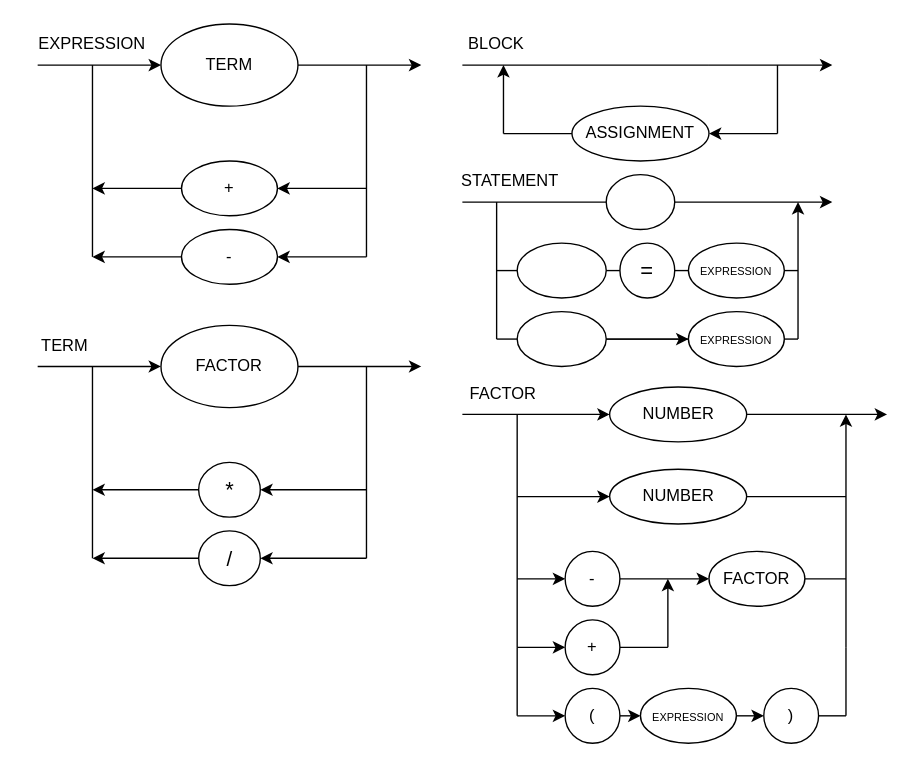
This 922x767 diagram has some shape labels left out. Each missing label, with the box of its shape:
\n: (605, 173, 675, 229)
IDENTIFIER: (516, 242, 606, 298)
PRINTLN: (516, 310, 606, 366)
